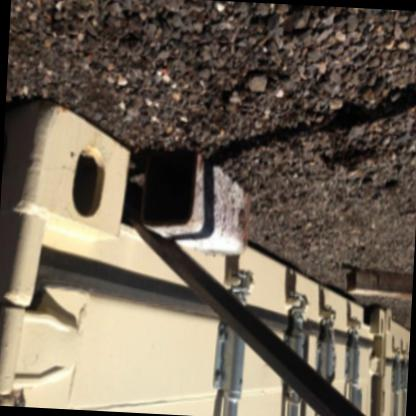CornerCasting: (0, 96, 145, 228)
